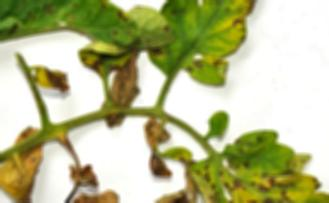Tomato Septoria leaf spot: (0, 0, 178, 69), (140, 0, 266, 92), (192, 132, 329, 203)
